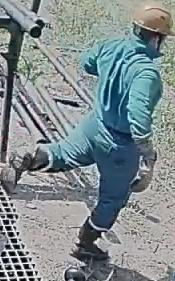gloves: (129, 140, 157, 195)
helmet: (130, 4, 175, 37)
vest: (92, 36, 159, 163)
